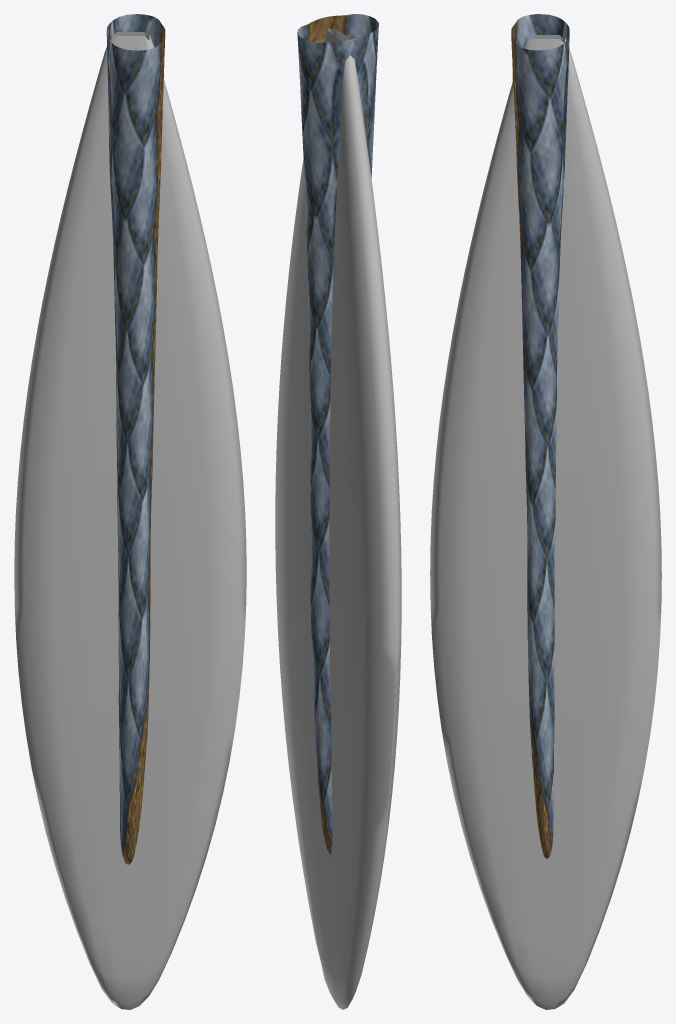
The model's file is dragon_tail.obj.
The picture shows the model from 3 angles, left to right: view 1: azimuth 90°, elevation 25°; view 2: azimuth 210°, elevation 25°; view 3: azimuth 270°, elevation 25°; orthographic projection.
Parts seen in each view (by area): view 1: Eastern_Dragon_2.005; view 2: Eastern_Dragon_2.005; view 3: Eastern_Dragon_2.005.
Part boxes in pixels (x1=…): Eastern_Dragon_2.005: x1=14, y1=14, x2=246, y2=1009; Eastern_Dragon_2.005: x1=275, y1=14, x2=401, y2=1009; Eastern_Dragon_2.005: x1=430, y1=14, x2=661, y2=1009.
Bounding box in the file's own units: 0.0553 × 0.6887 × 0.1481.
